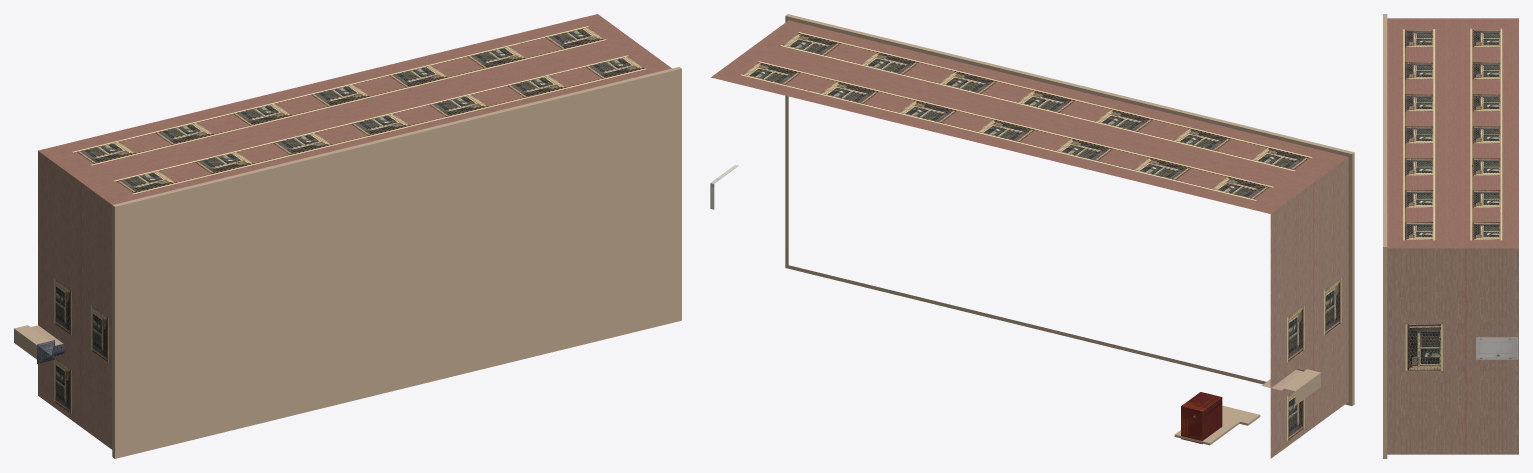
The model's file is max.gltf.
3 views of the same model, side by side, from view 1: azimuth 30°, elevation 25°; view 2: azimuth 150°, elevation 25°; view 3: azimuth 270°, elevation 25° (orthographic). The views are drawn at different scales.
Visible parts, largest first — view 1: pCube14; view 2: pCube14; view 3: pCube14.
Boxes of the visible parts, left/top/right/bottom form: pCube14: left=14, top=14, right=681, bottom=458; pCube14: left=710, top=14, right=1354, bottom=458; pCube14: left=1383, top=14, right=1518, bottom=458.
Bounding box in the file's own units: 29.36 × 12.44 × 6.96.
12 materials, 12 textured.
